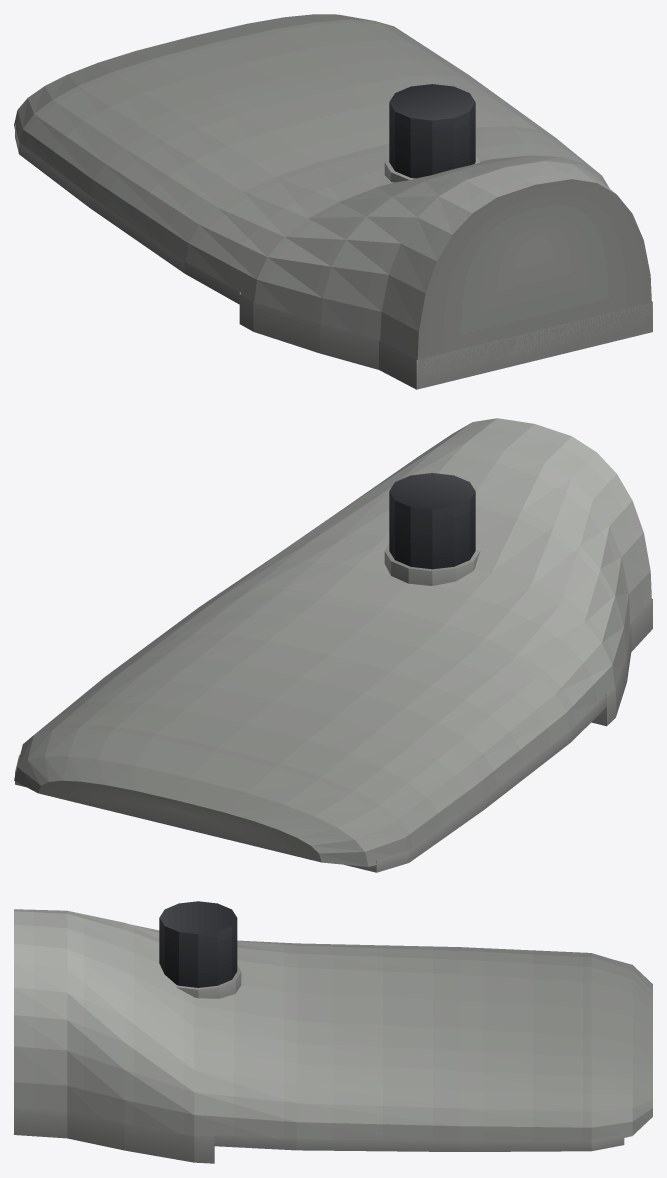
Rendered from streetlight_aeatb2.obj.
The picture shows the model from 3 angles, top to bottom: view 1: azimuth 30°, elevation 25°; view 2: azimuth 150°, elevation 25°; view 3: azimuth 270°, elevation 25°; orthographic projection. The views are drawn at different scales.
Parts seen in each view (by area): view 1: fixture; view 2: fixture; view 3: fixture.
Part boxes in pixels (x1,y1,x2,y2): fixture: [14, 14, 652, 389]; fixture: [14, 418, 652, 872]; fixture: [14, 901, 652, 1163].
Size of the model in its own units: 0.625 by 0.2784 by 0.975.
